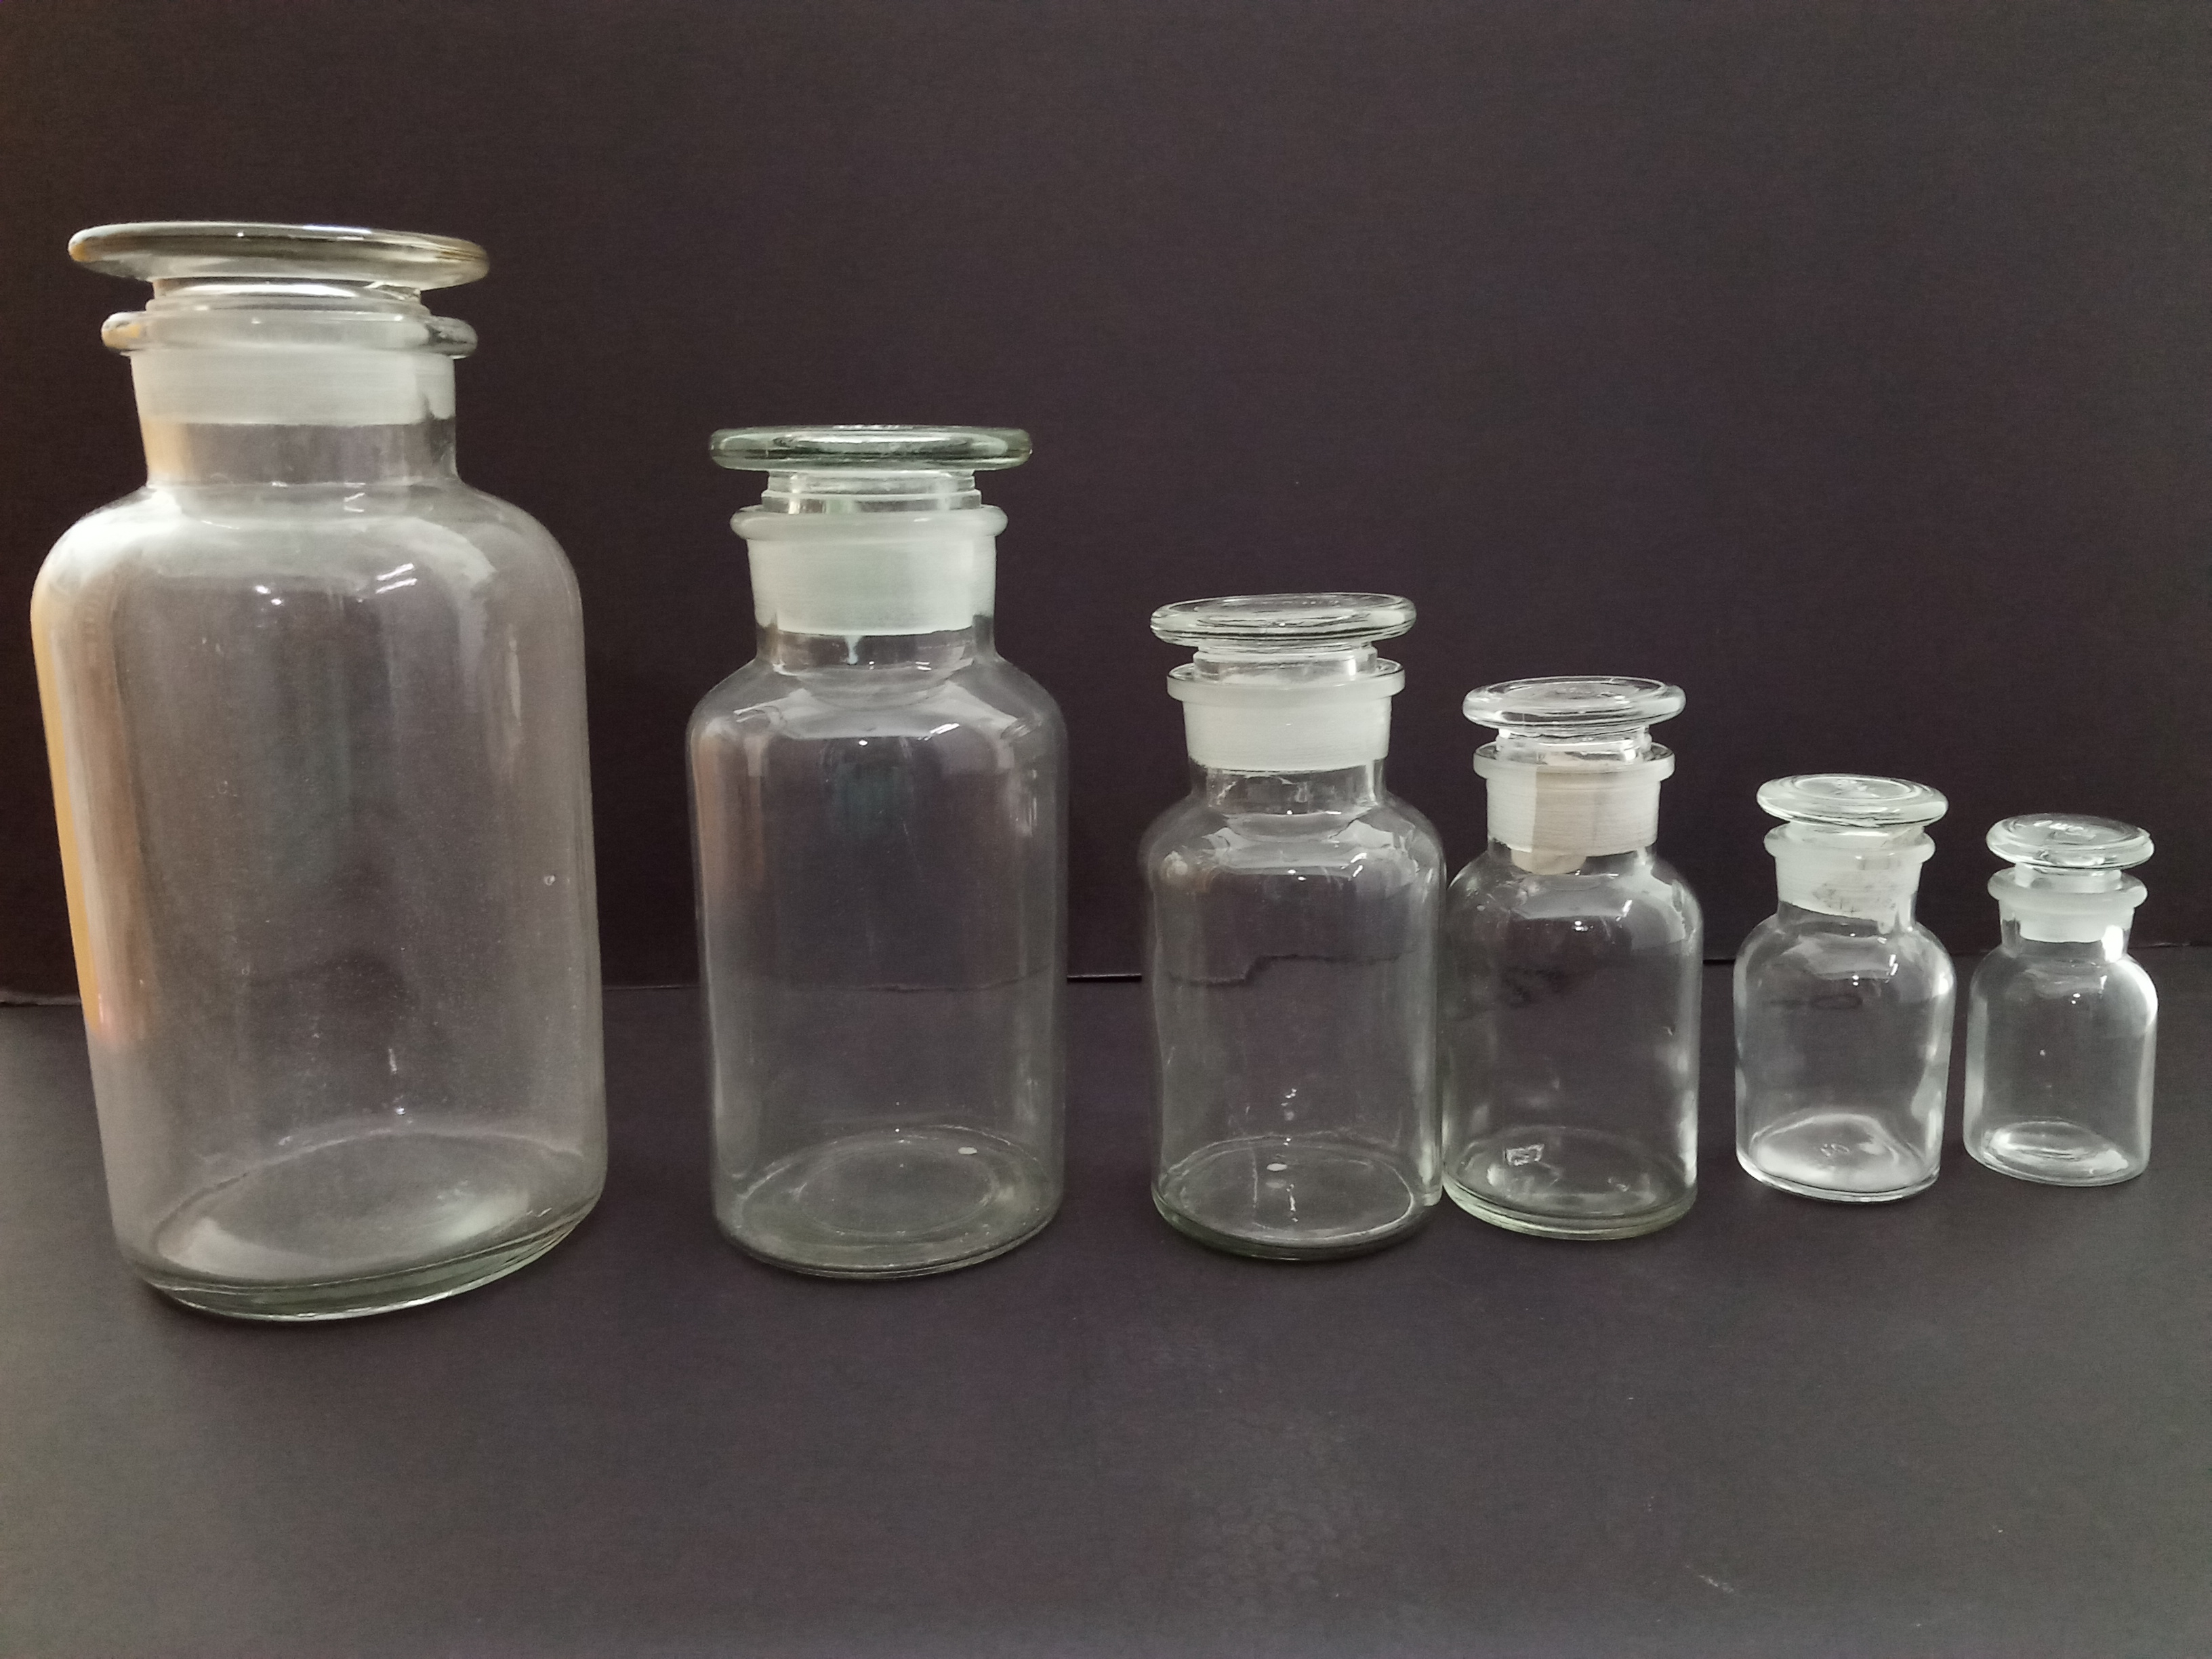glass_bottle: (21, 192, 648, 1373), (671, 413, 1087, 1304), (1122, 577, 1444, 1284), (1451, 647, 1712, 1272), (1724, 755, 1959, 1225), (1970, 791, 2170, 1206)
